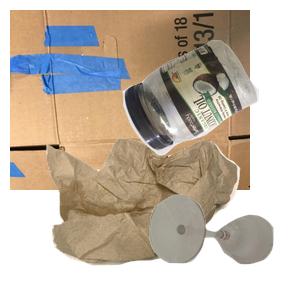cardboard: (10, 10, 250, 190)
glass: (147, 192, 300, 300)
plastic: (120, 37, 300, 185)
trash: (44, 136, 277, 300)
